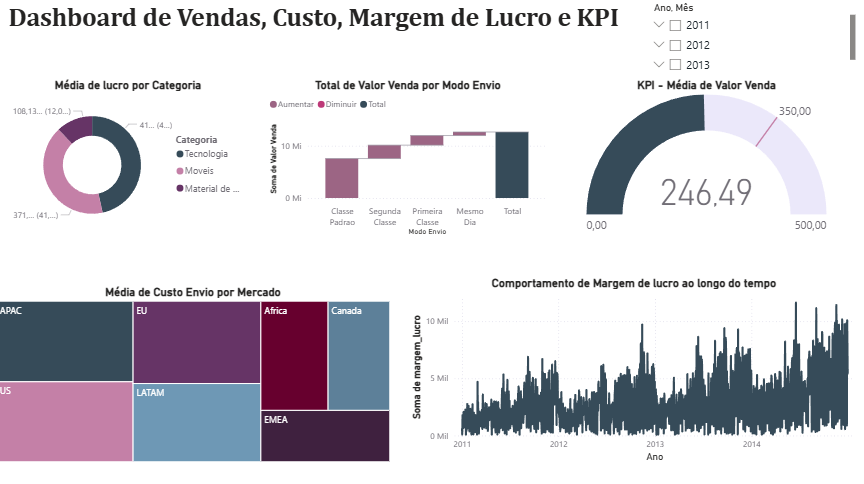

The dashboard page shown, as its layout file describes it:
{"tool":"powerbi","page":{"name":"Página 1","canvas":[1280,720],"ordinal":0},"visuals":[{"type":"waterfallChart","title":"Total de Valor Venda por Modo Envio","fields":{"Category":["Pedidos.Modo Envio"],"Y":["Sum(Vendas.Valor Venda)"]},"box":[399.5,124.4,415.6,235.6],"z":0},{"type":"treemap","fields":{"Group":["Clientes.Mercado"],"Values":["Avg(Vendas.Custo Envio)"]},"box":[0,427.3,585.4,263.4],"z":1000},{"type":"gauge","title":"KPI - Média de Valor Venda","fields":{"Y":["Avg(Vendas.Valor Venda)"]},"box":[821,124.4,446.3,235.6],"z":2000},{"type":"slicer","fields":{"Values":["Pedidos.Data Pedido.Variation.Hierarquia de datas.Ano","Pedidos.Data Pedido.Variation.Hierarquia de datas.Mês"]},"box":[954.1,8.8,313.2,115.6],"z":3000},{"type":"donutChart","fields":{"Category":["Produtos.Categoria"],"Y":["Avg(Vendas.lucro)"]},"box":[17.6,124.4,360,235.6],"z":4000},{"type":"lineChart","title":"Comportamento de Margem de lucro  ao longo do tempo","fields":{"Category":["Pedidos.Data Pedido.Variation.Hierarquia de datas.Ano","Pedidos.Data Pedido.Variation.Hierarquia de datas.Trimestre","Pedidos.Data Pedido.Variation.Hierarquia de datas.Mês","Pedidos.Data Pedido.Variation.Hierarquia de datas.Dia"],"Y":["Sum(Vendas.margem_lucro)"]},"box":[607.3,414.1,661.5,276.6],"z":5000},{"type":"textbox","box":[17.7,8.9,820.3,53.2],"z":6000}]}

Visuals, with their boxes in screenshot pixels (x1, y1, x2, y2), scaled from the page's 1280x720 canvas onto the 864x484 screenshot:
"Total de Valor Venda por Modo Envio" waterfallChart: select_region(270, 84, 550, 242)
treemap - Clientes.Mercado x Avg(Vendas.Custo Envio): select_region(0, 287, 395, 464)
"KPI - Média de Valor Venda" gauge: select_region(554, 84, 855, 242)
slicer - Pedidos.Data Pedido.Variation.Hierarquia de datas.Ano x Pedidos.Data Pedido.Variation.Hierarquia de datas.Mês: select_region(644, 6, 855, 84)
donutChart - Produtos.Categoria x Avg(Vendas.lucro): select_region(12, 84, 255, 242)
"Comportamento de Margem de lucro  ao longo do tempo" lineChart: select_region(410, 278, 856, 464)
textbox: select_region(12, 6, 566, 42)
